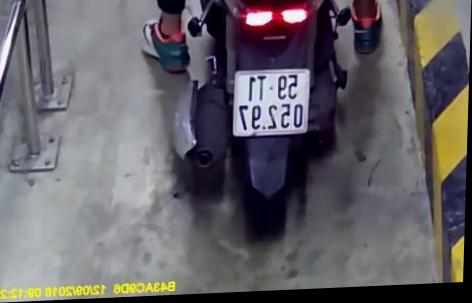License_Plate: (219, 67, 322, 139)
